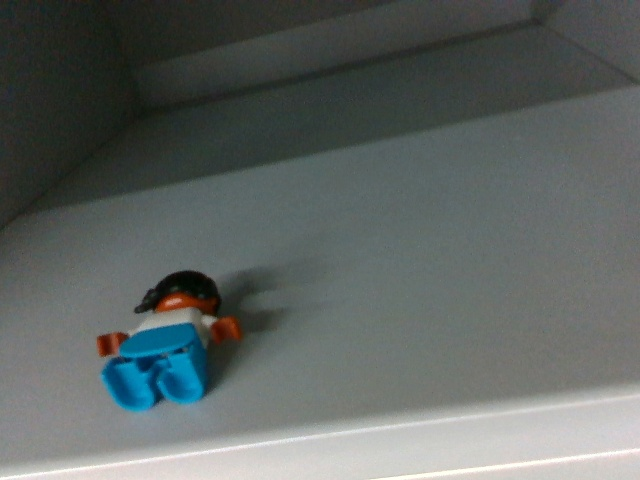people: (93, 267, 243, 414)
